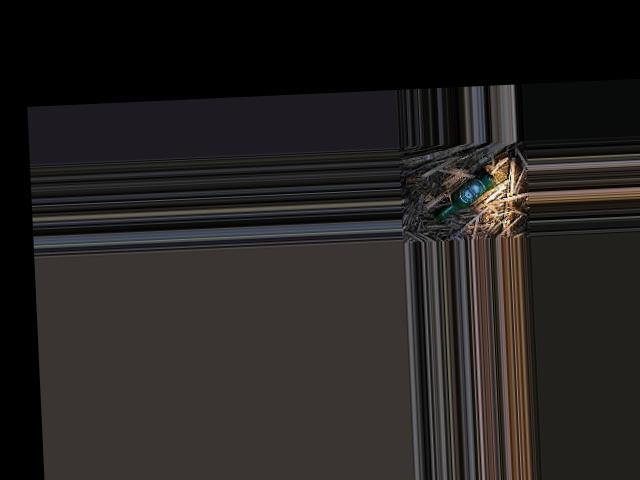beer: (431, 167, 497, 221)
